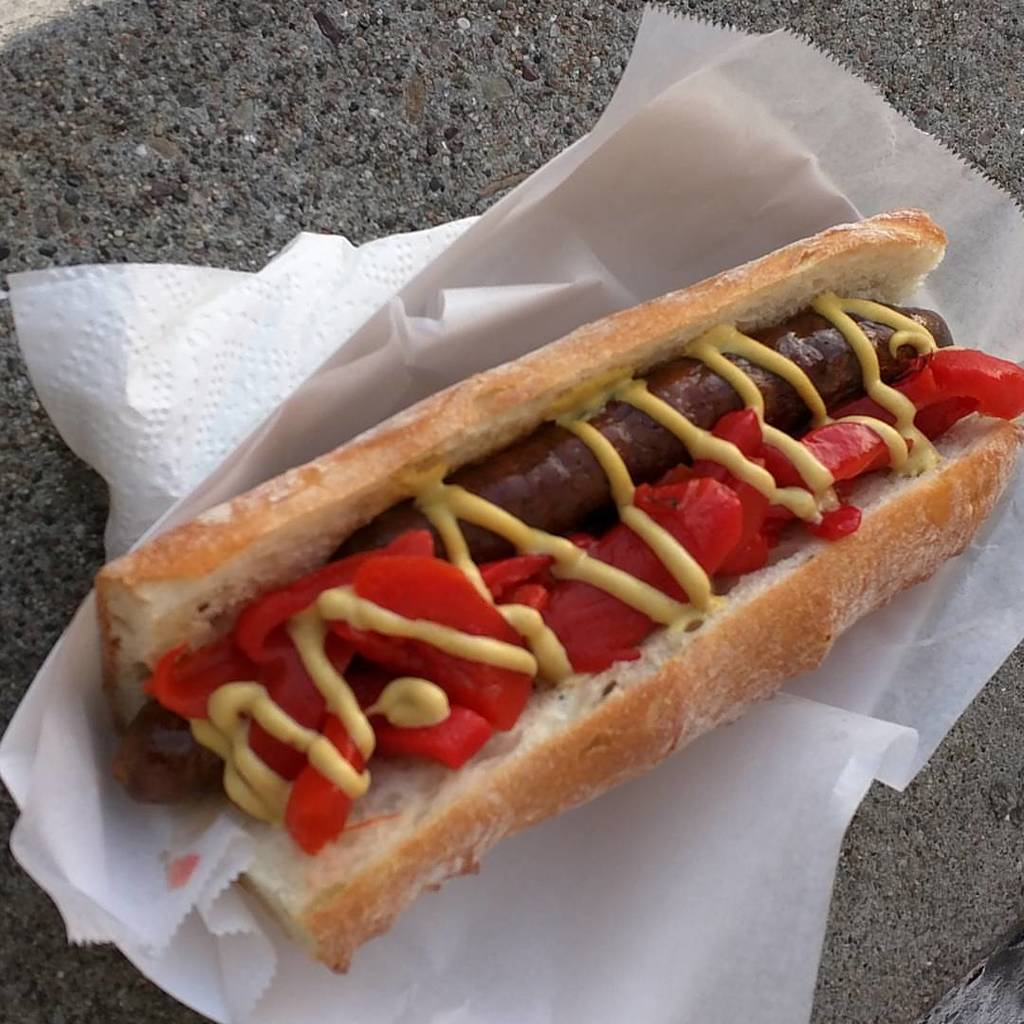hot_dog: (75, 205, 1023, 971)
